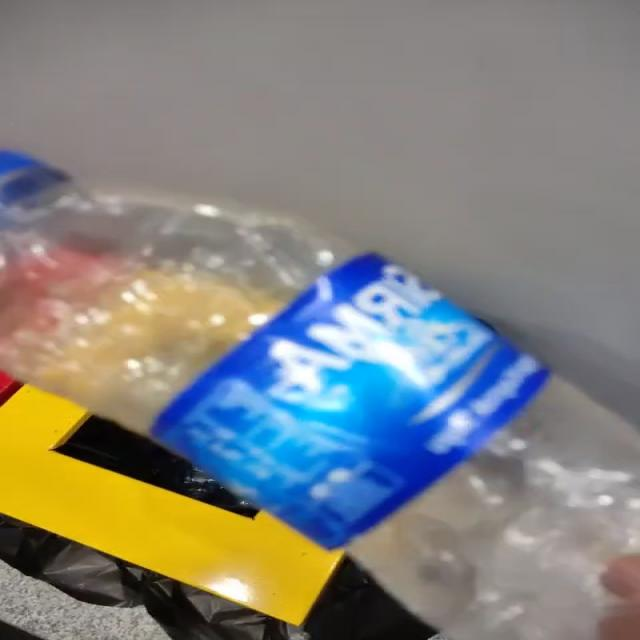plastic: (1, 153, 639, 640)
